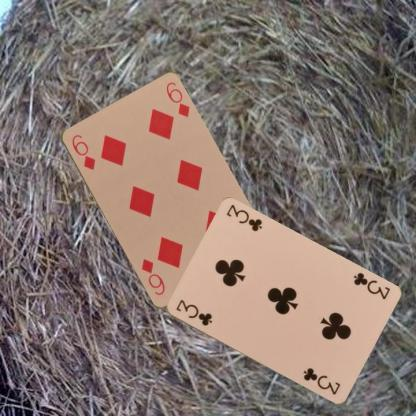3c: (350, 270, 391, 301), (173, 297, 213, 328)
6d: (69, 131, 96, 171)
